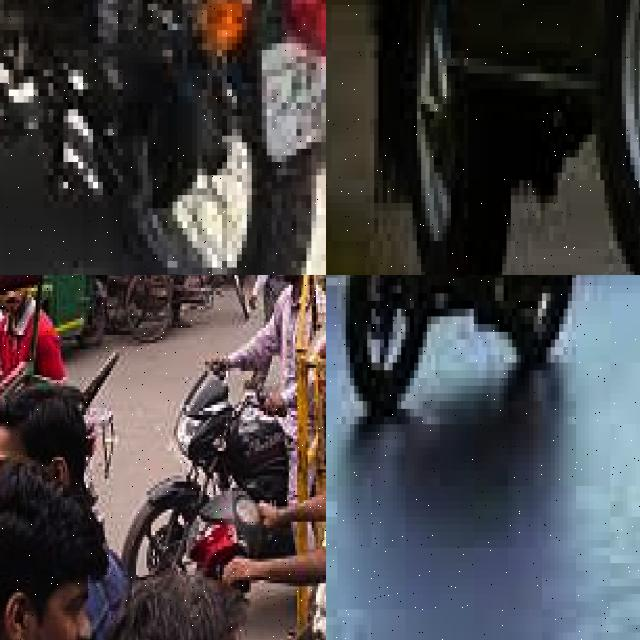bike: (0, 0, 326, 275), (124, 337, 320, 586), (337, 275, 588, 424)
car: (357, 0, 640, 275)
